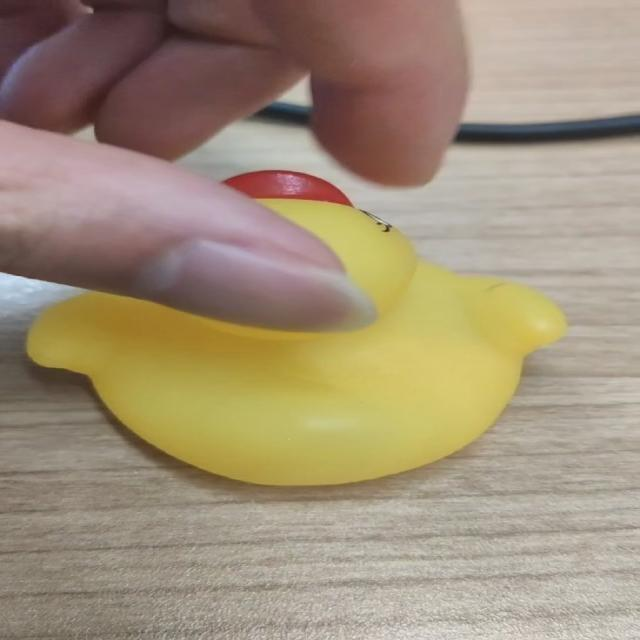rubber-duck: (26, 170, 565, 483)
